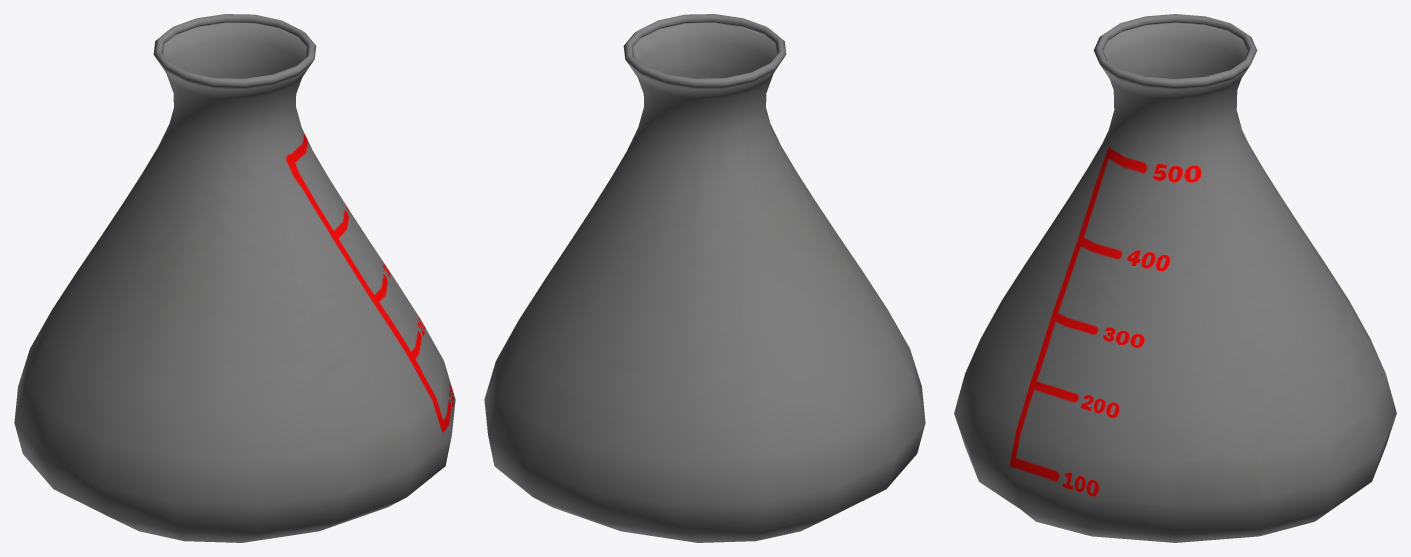
Rendered from ErlenmeyerFlaskV1.glb.
The picture shows the model from 3 angles, left to right: view 1: azimuth 30°, elevation 25°; view 2: azimuth 150°, elevation 25°; view 3: azimuth 270°, elevation 25°; orthographic projection.
Parts seen in each view (by area): view 1: Plane; view 2: Plane; view 3: Plane.
Part boxes in pixels (<box>): Plane: <box>14,14,455,542</box>; Plane: <box>484,14,925,542</box>; Plane: <box>954,14,1396,542</box>.
Size of the model in its own units: 0.0869 by 0.0962 by 0.0869.
2 materials, 1 textured.
